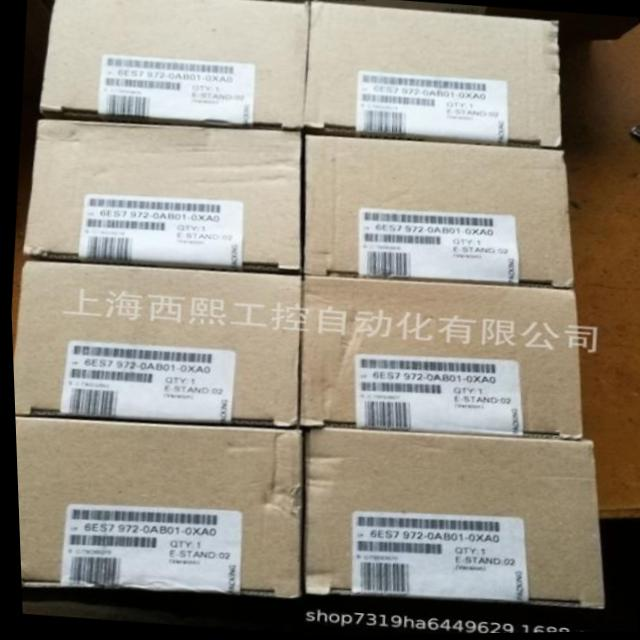box: (297, 430, 600, 609), (12, 417, 297, 598), (10, 262, 300, 429), (297, 277, 578, 441), (21, 120, 300, 273), (300, 135, 572, 286), (297, 2, 561, 150), (38, 0, 307, 129)
